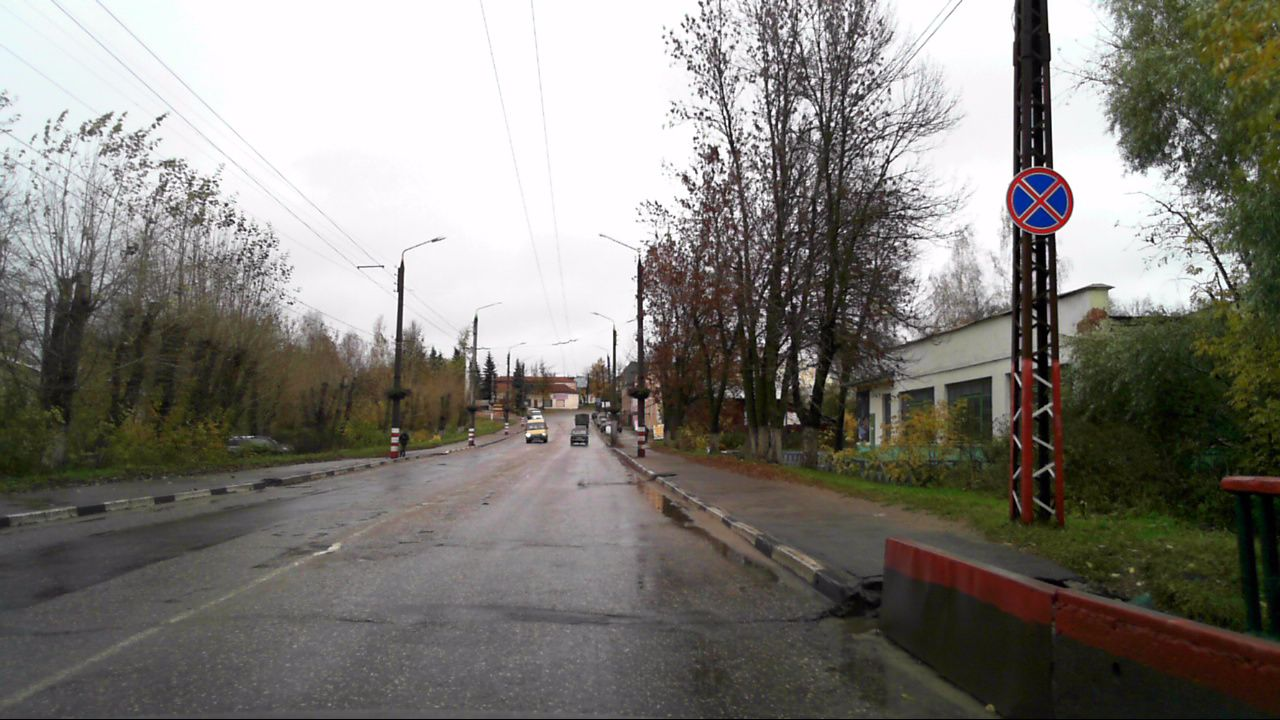No Parking: (1004, 166, 1076, 239)
